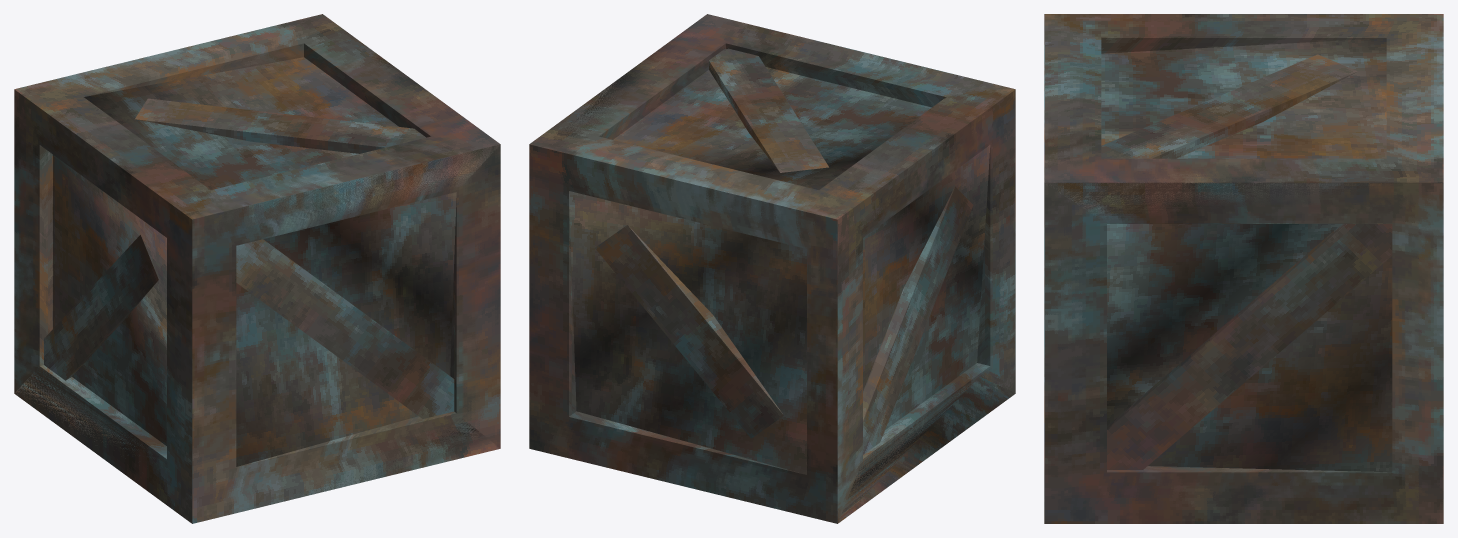
Rendered from item_randombox_modules.glb.
3 renders of one model, left to right at view 1: azimuth 30°, elevation 25°; view 2: azimuth 150°, elevation 25°; view 3: azimuth 270°, elevation 25°, orthographic. The views are drawn at different scales.
Visible parts, largest first — view 1: CrateSmall; view 2: CrateSmall; view 3: CrateSmall.
Boxes of the visible parts, x1,y1,x2,y2 form: CrateSmall: (14, 14, 500, 523); CrateSmall: (529, 14, 1015, 523); CrateSmall: (1044, 14, 1443, 523).
Size of the model in its own units: 0.7044 by 0.6641 by 0.7044.
1 material, 1 textured.
